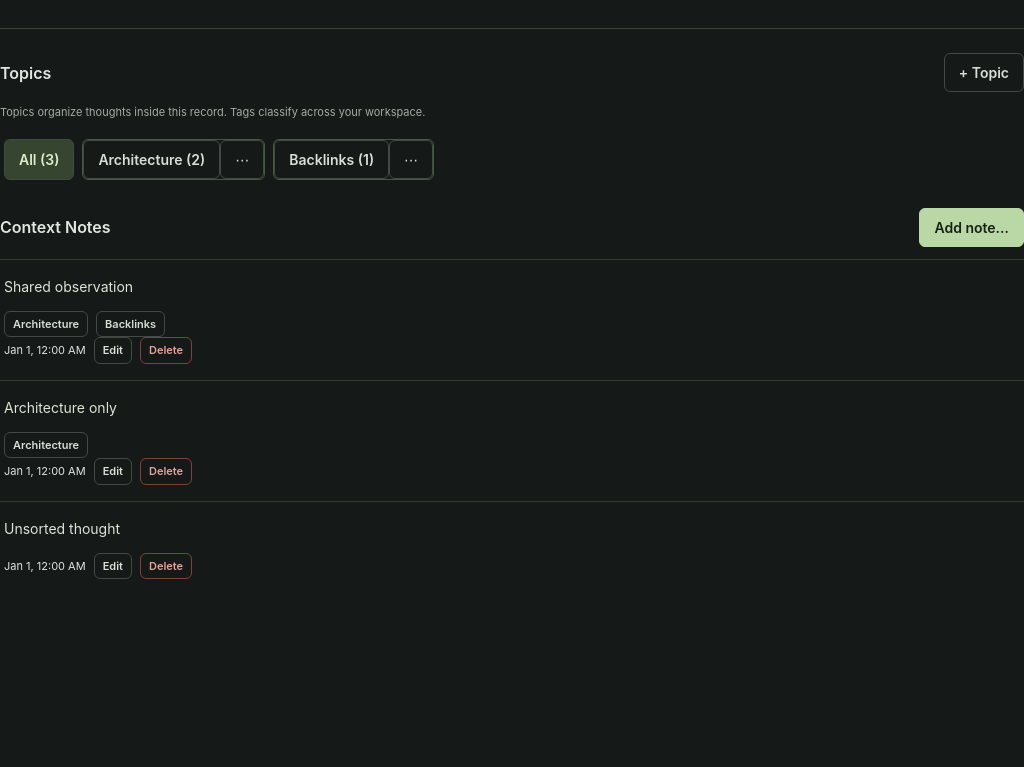
Scenario: a new Topic can be created while writing without losing the inline draft
Expected: the text "Shared observation" is shown, [4,278,133,294]
Click the button "Add note…" at (972, 227), box [920,208,1023,246]
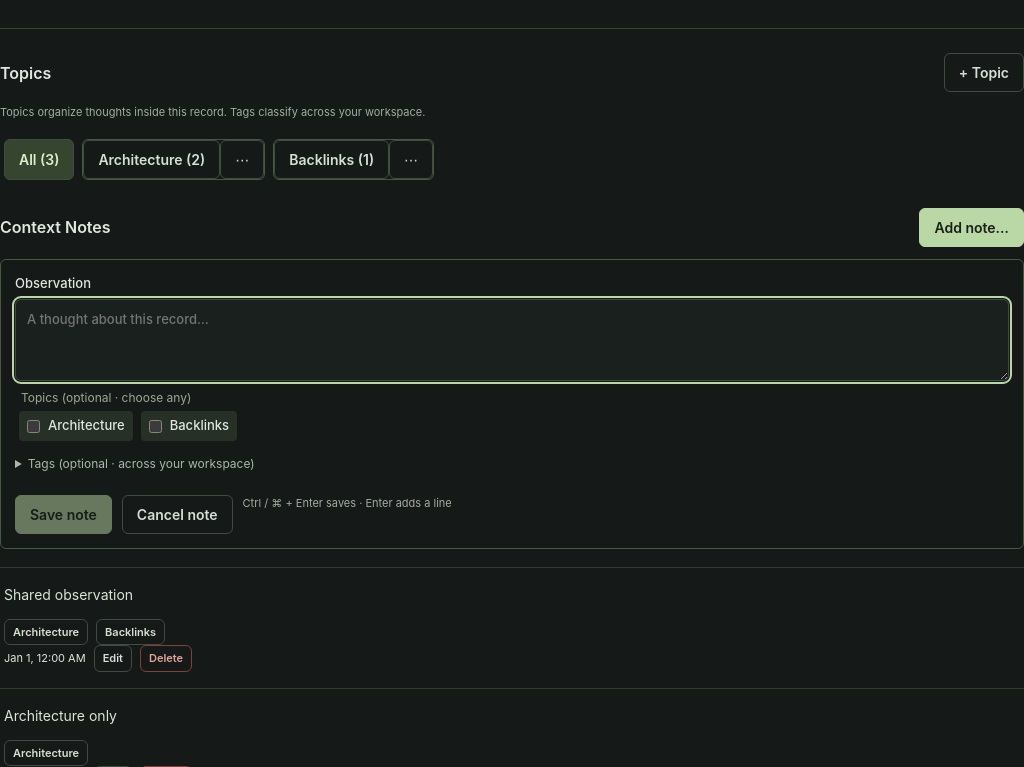
Type "Draft with a new context" into the text box labelled "Observation" at (512, 340), box [15,299,1009,381]
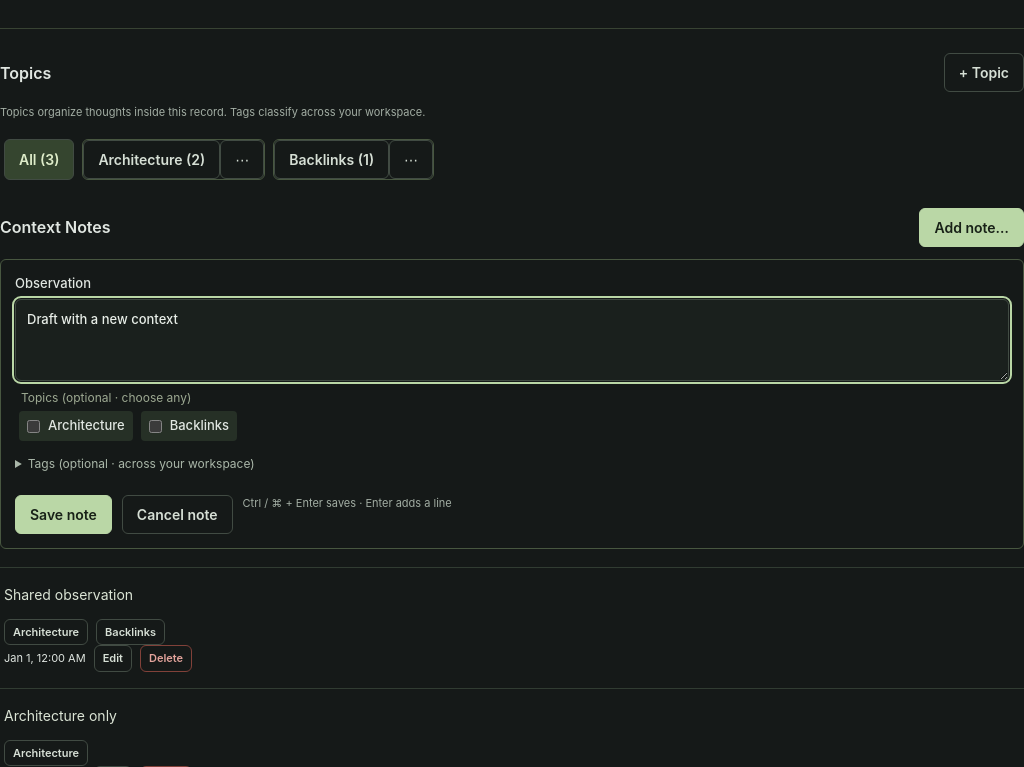
Click the button "+ Topic" at (984, 72), box [944,53,1023,92]
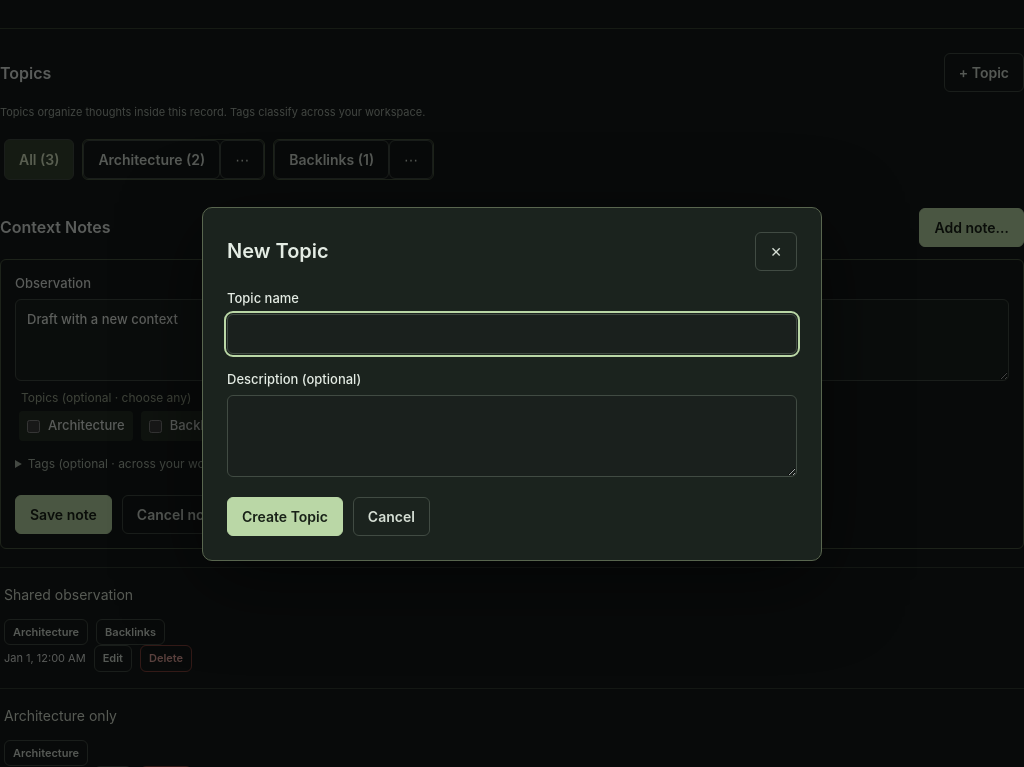
Type "New evidence" into the field labelled "Topic name" at (512, 334), box [227,314,797,354]
Click the button "Create Topic" at (285, 517), box [227,497,343,536]
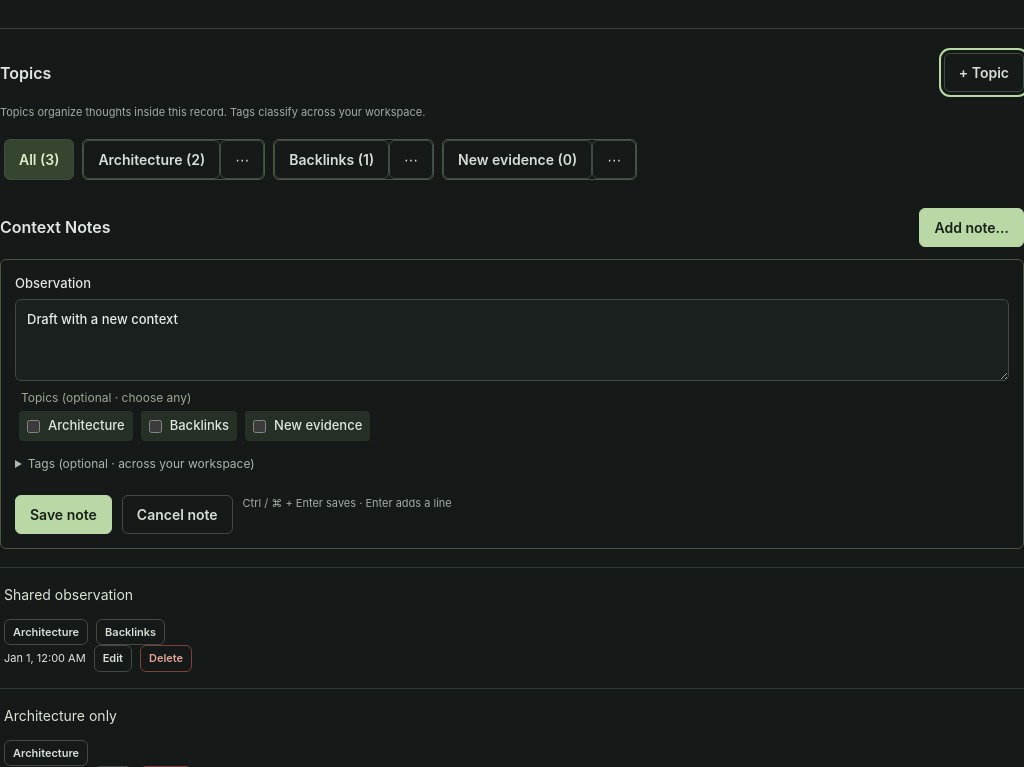
Click the checkbox labelled "New evidence" at (260, 426), box [253,420,266,433]
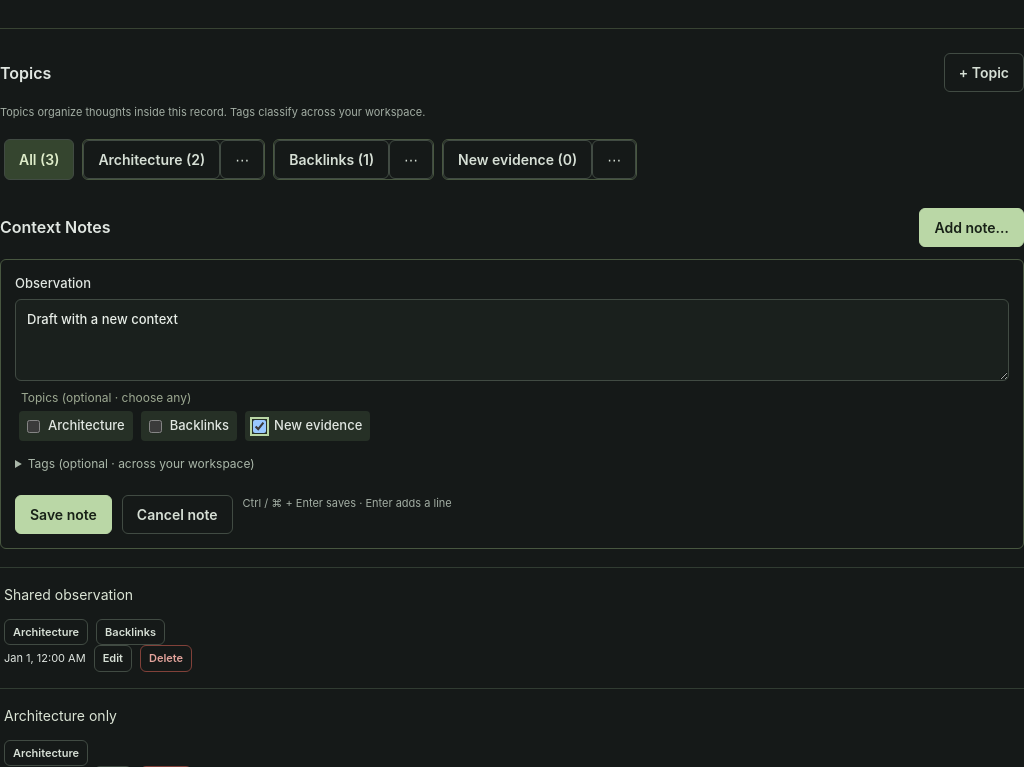
Click the button "Save note" at (63, 514), box [15,495,112,534]
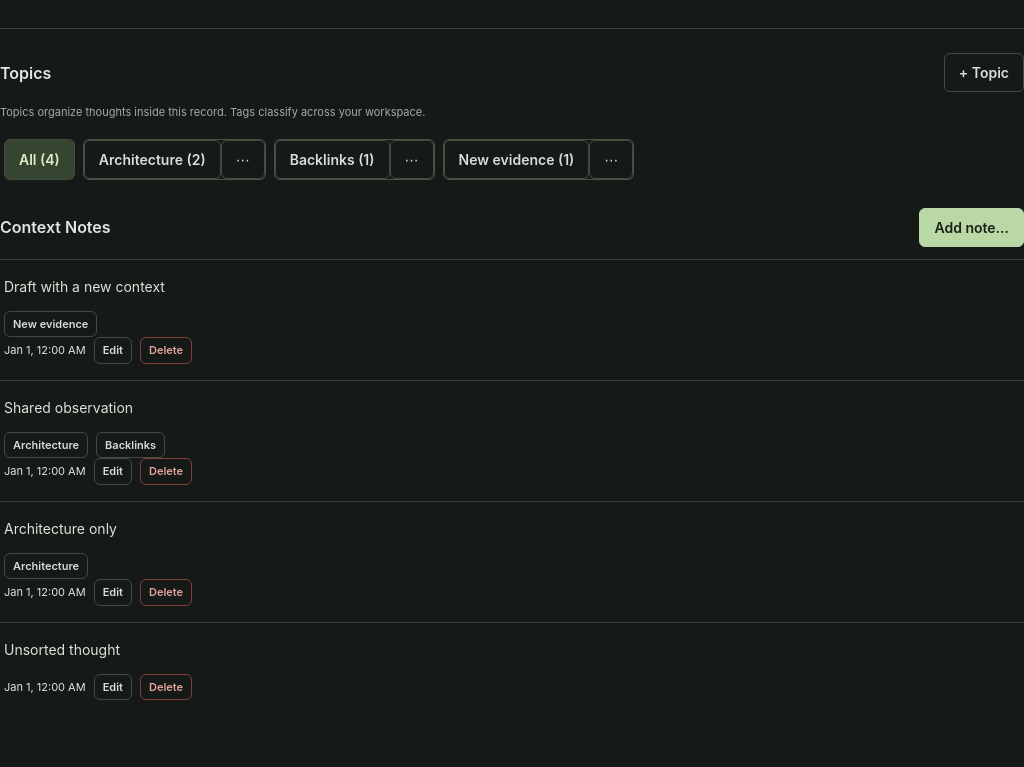
Result: the text "Draft with a new context" is shown at [4,278,165,294]
